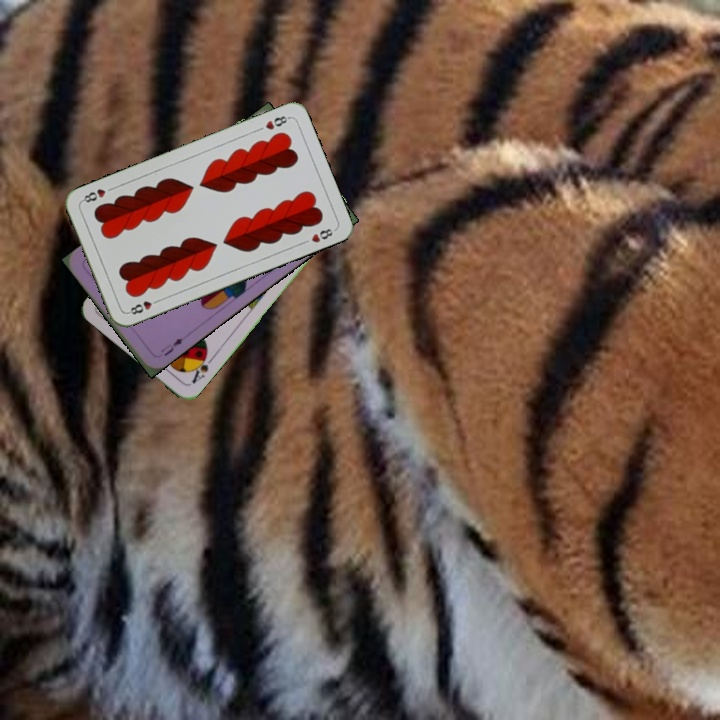EU: (157, 333, 186, 359)
H8: (124, 295, 163, 317), (261, 112, 292, 132)
SA: (187, 348, 217, 387)
